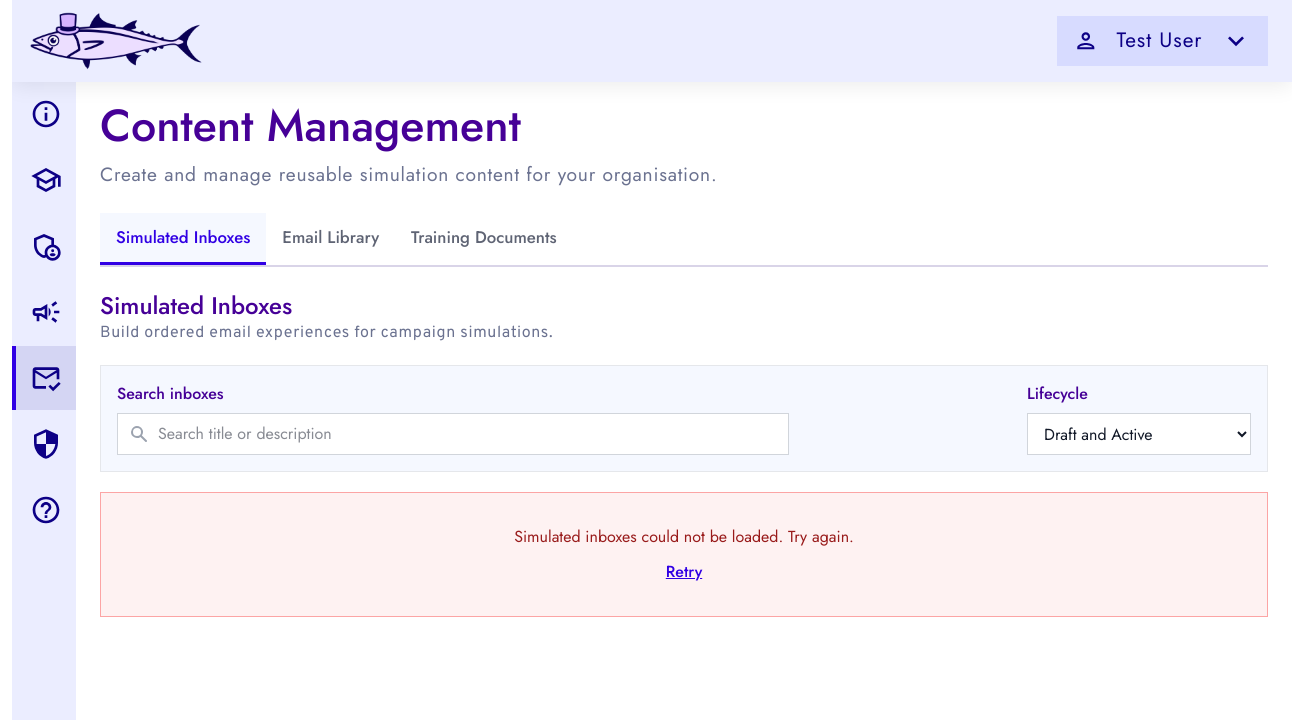
Test: SimulatedInboxList › shows loading, empty and error recovery states and hides mutation controls without permission
Expected: the message shows "could not be loaded", x1=514 y1=525 x2=854 y2=548
What coordinates should you click on to do the following:
click the button "Retry"
I would click on:
 (684, 572)
Its box is x1=666 y1=560 x2=702 y2=584.
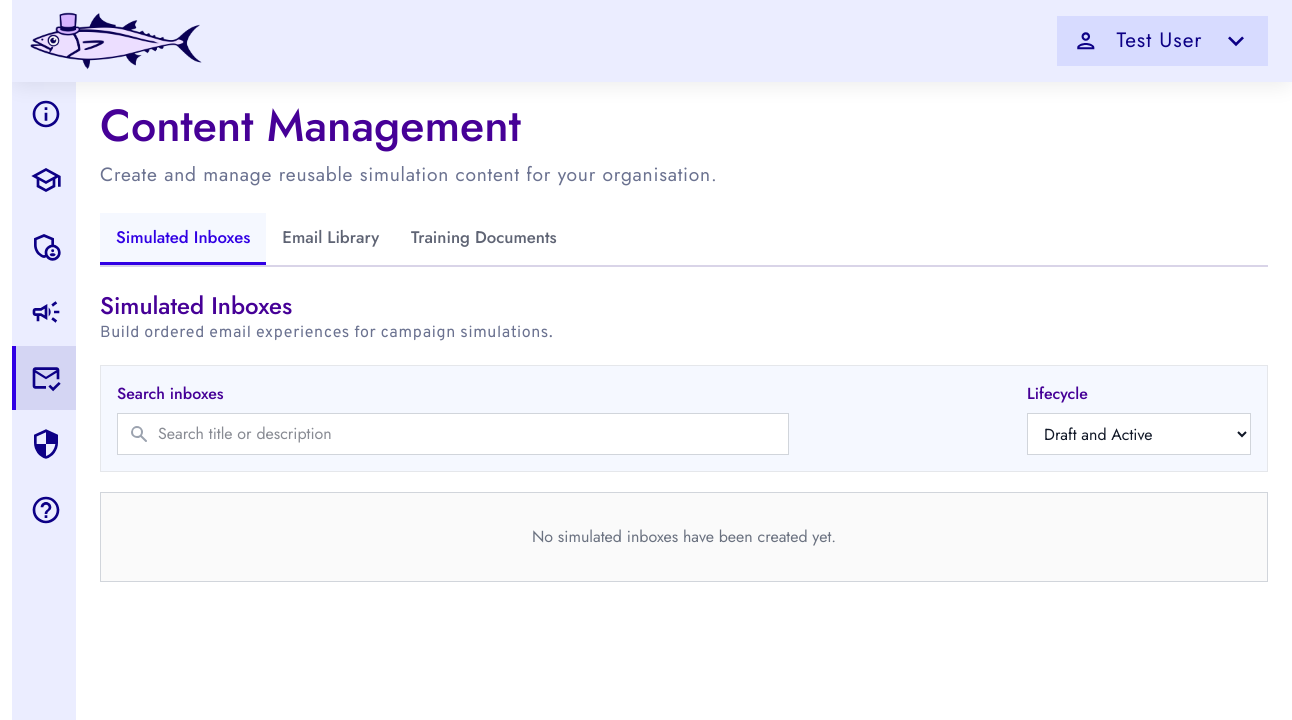
Now the text "No simulated inboxes have been created yet." is shown, box x1=100 y1=492 x2=1268 y2=582
